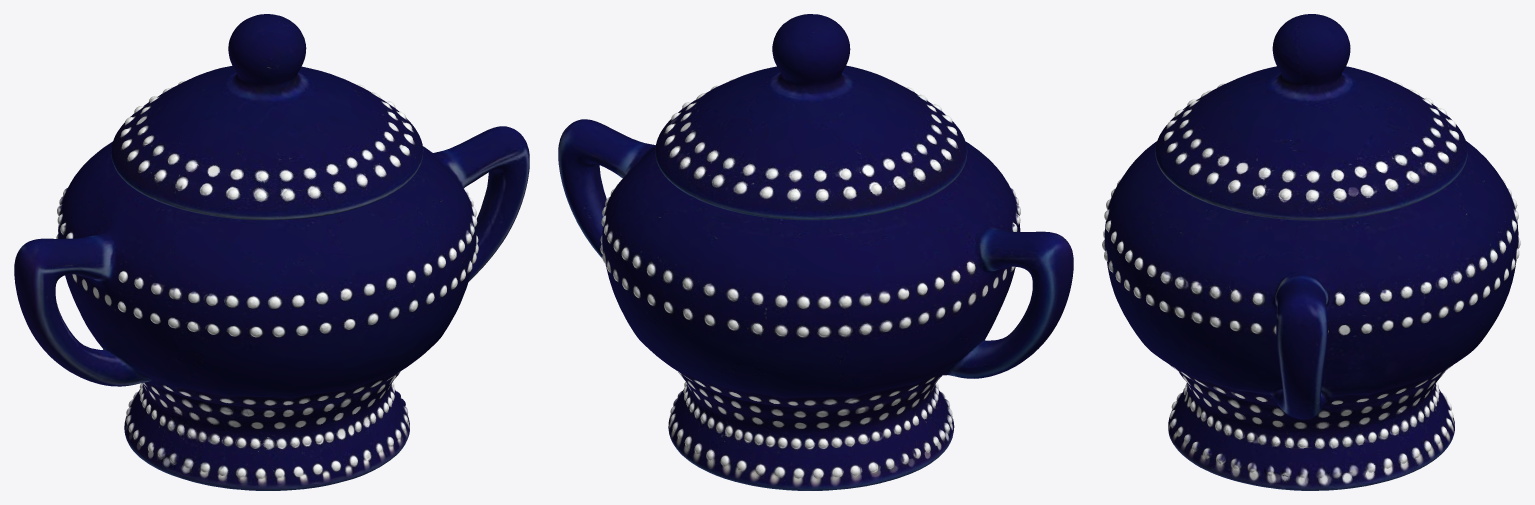
The model's file is zuccheriera-blu.glb.
3 views of the same model, side by side, from view 1: azimuth 30°, elevation 25°; view 2: azimuth 150°, elevation 25°; view 3: azimuth 270°, elevation 25° (orthographic).
Parts seen in each view (by area): view 1: Mesh_0; view 2: Mesh_0; view 3: Mesh_0.
Part boxes in pixels (x1,y1,x2,y2): Mesh_0: (14,14,529,490); Mesh_0: (558,14,1073,490); Mesh_0: (1102,14,1520,490).
Size of the model in its own units: 1.9 by 1.49 by 1.36.
1 material, 1 textured.
